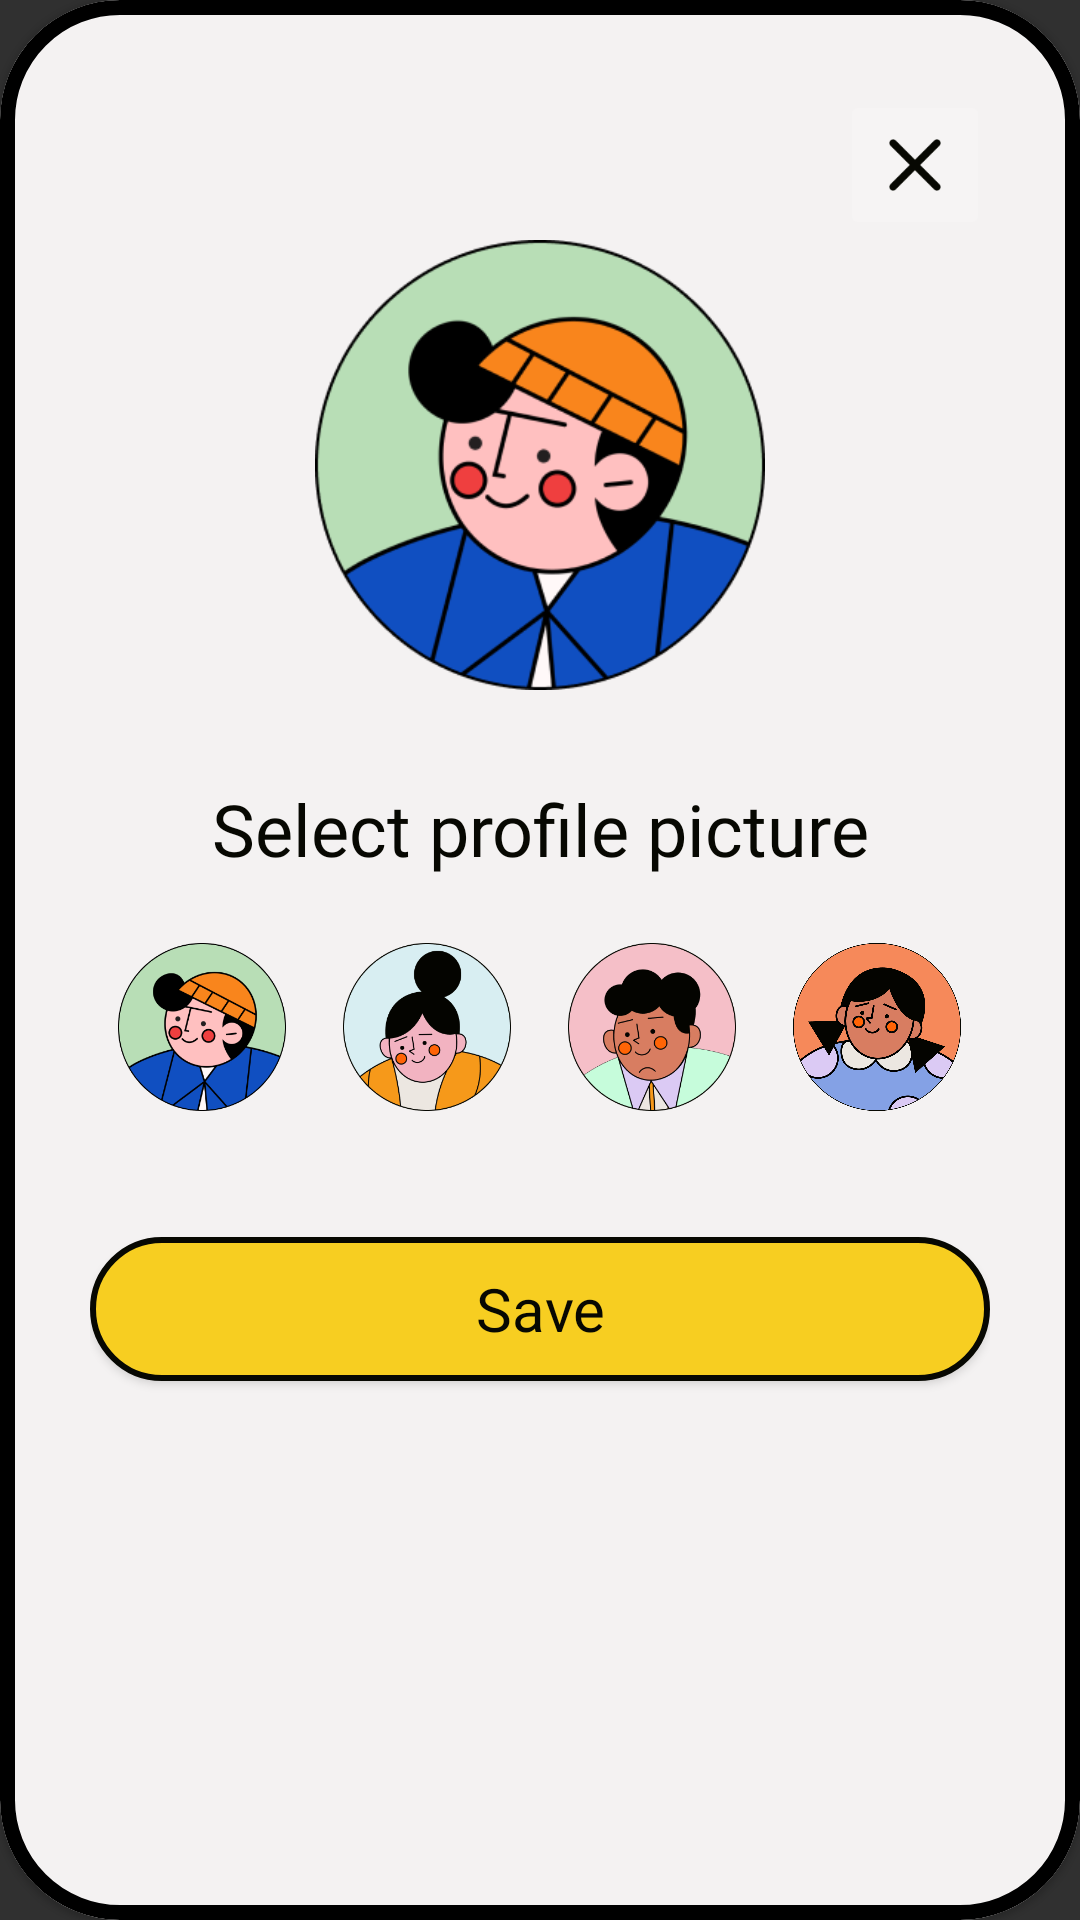

Screen size 1080x1920. Icon name, then its box in pixels as (x1, y1, x2, y2):
close: (889, 139, 941, 191)
